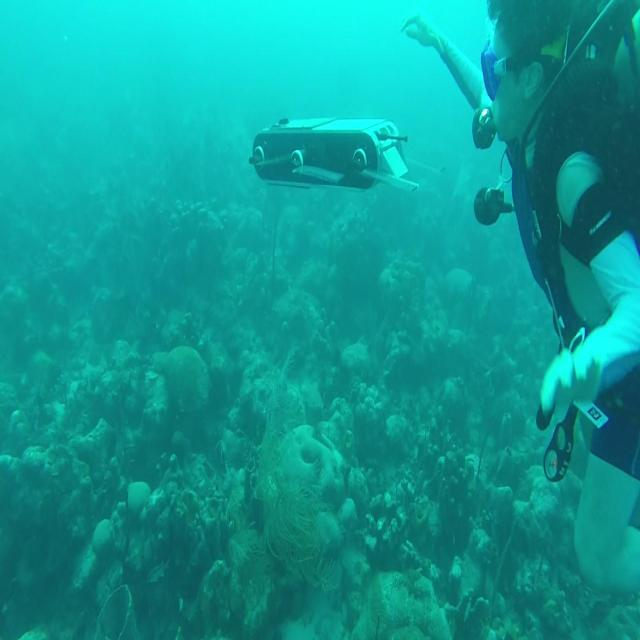human: (399, 0, 639, 601)
